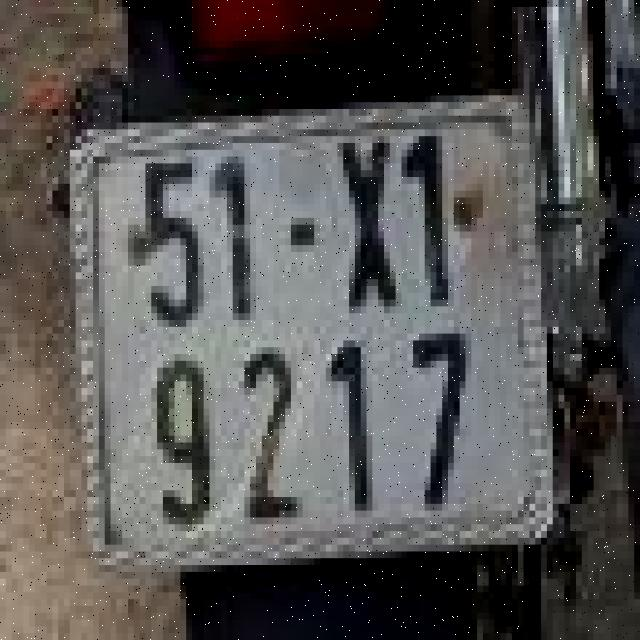1: (207, 147, 270, 330), (314, 344, 378, 521), (407, 140, 454, 303)
2: (227, 354, 297, 524)
5: (131, 153, 212, 330)
7: (407, 330, 483, 507)
9: (148, 361, 218, 531)
X: (323, 130, 404, 314)
